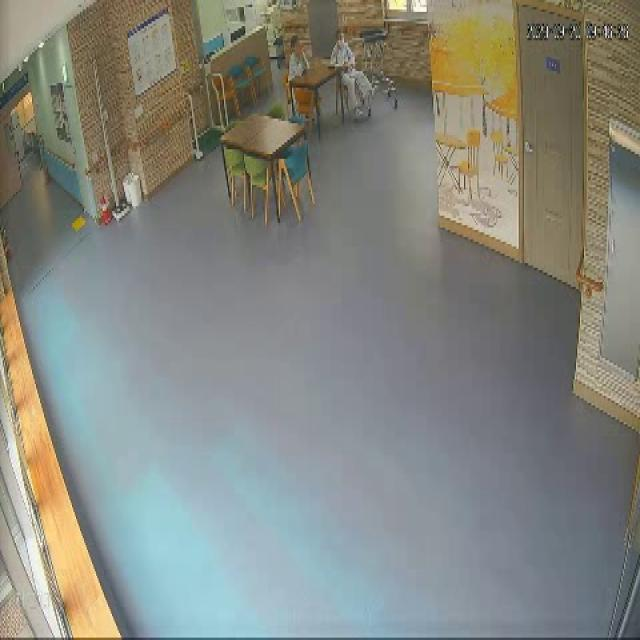patient: (328, 31, 377, 122), (280, 28, 310, 82)
sit: (328, 32, 376, 122)
